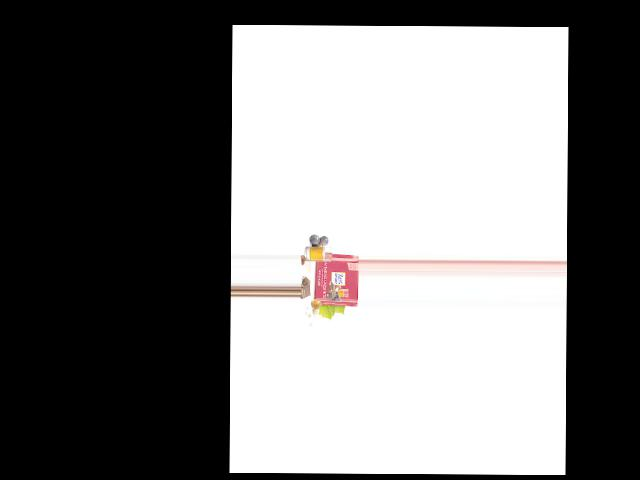chocolate: (314, 255, 358, 308)
